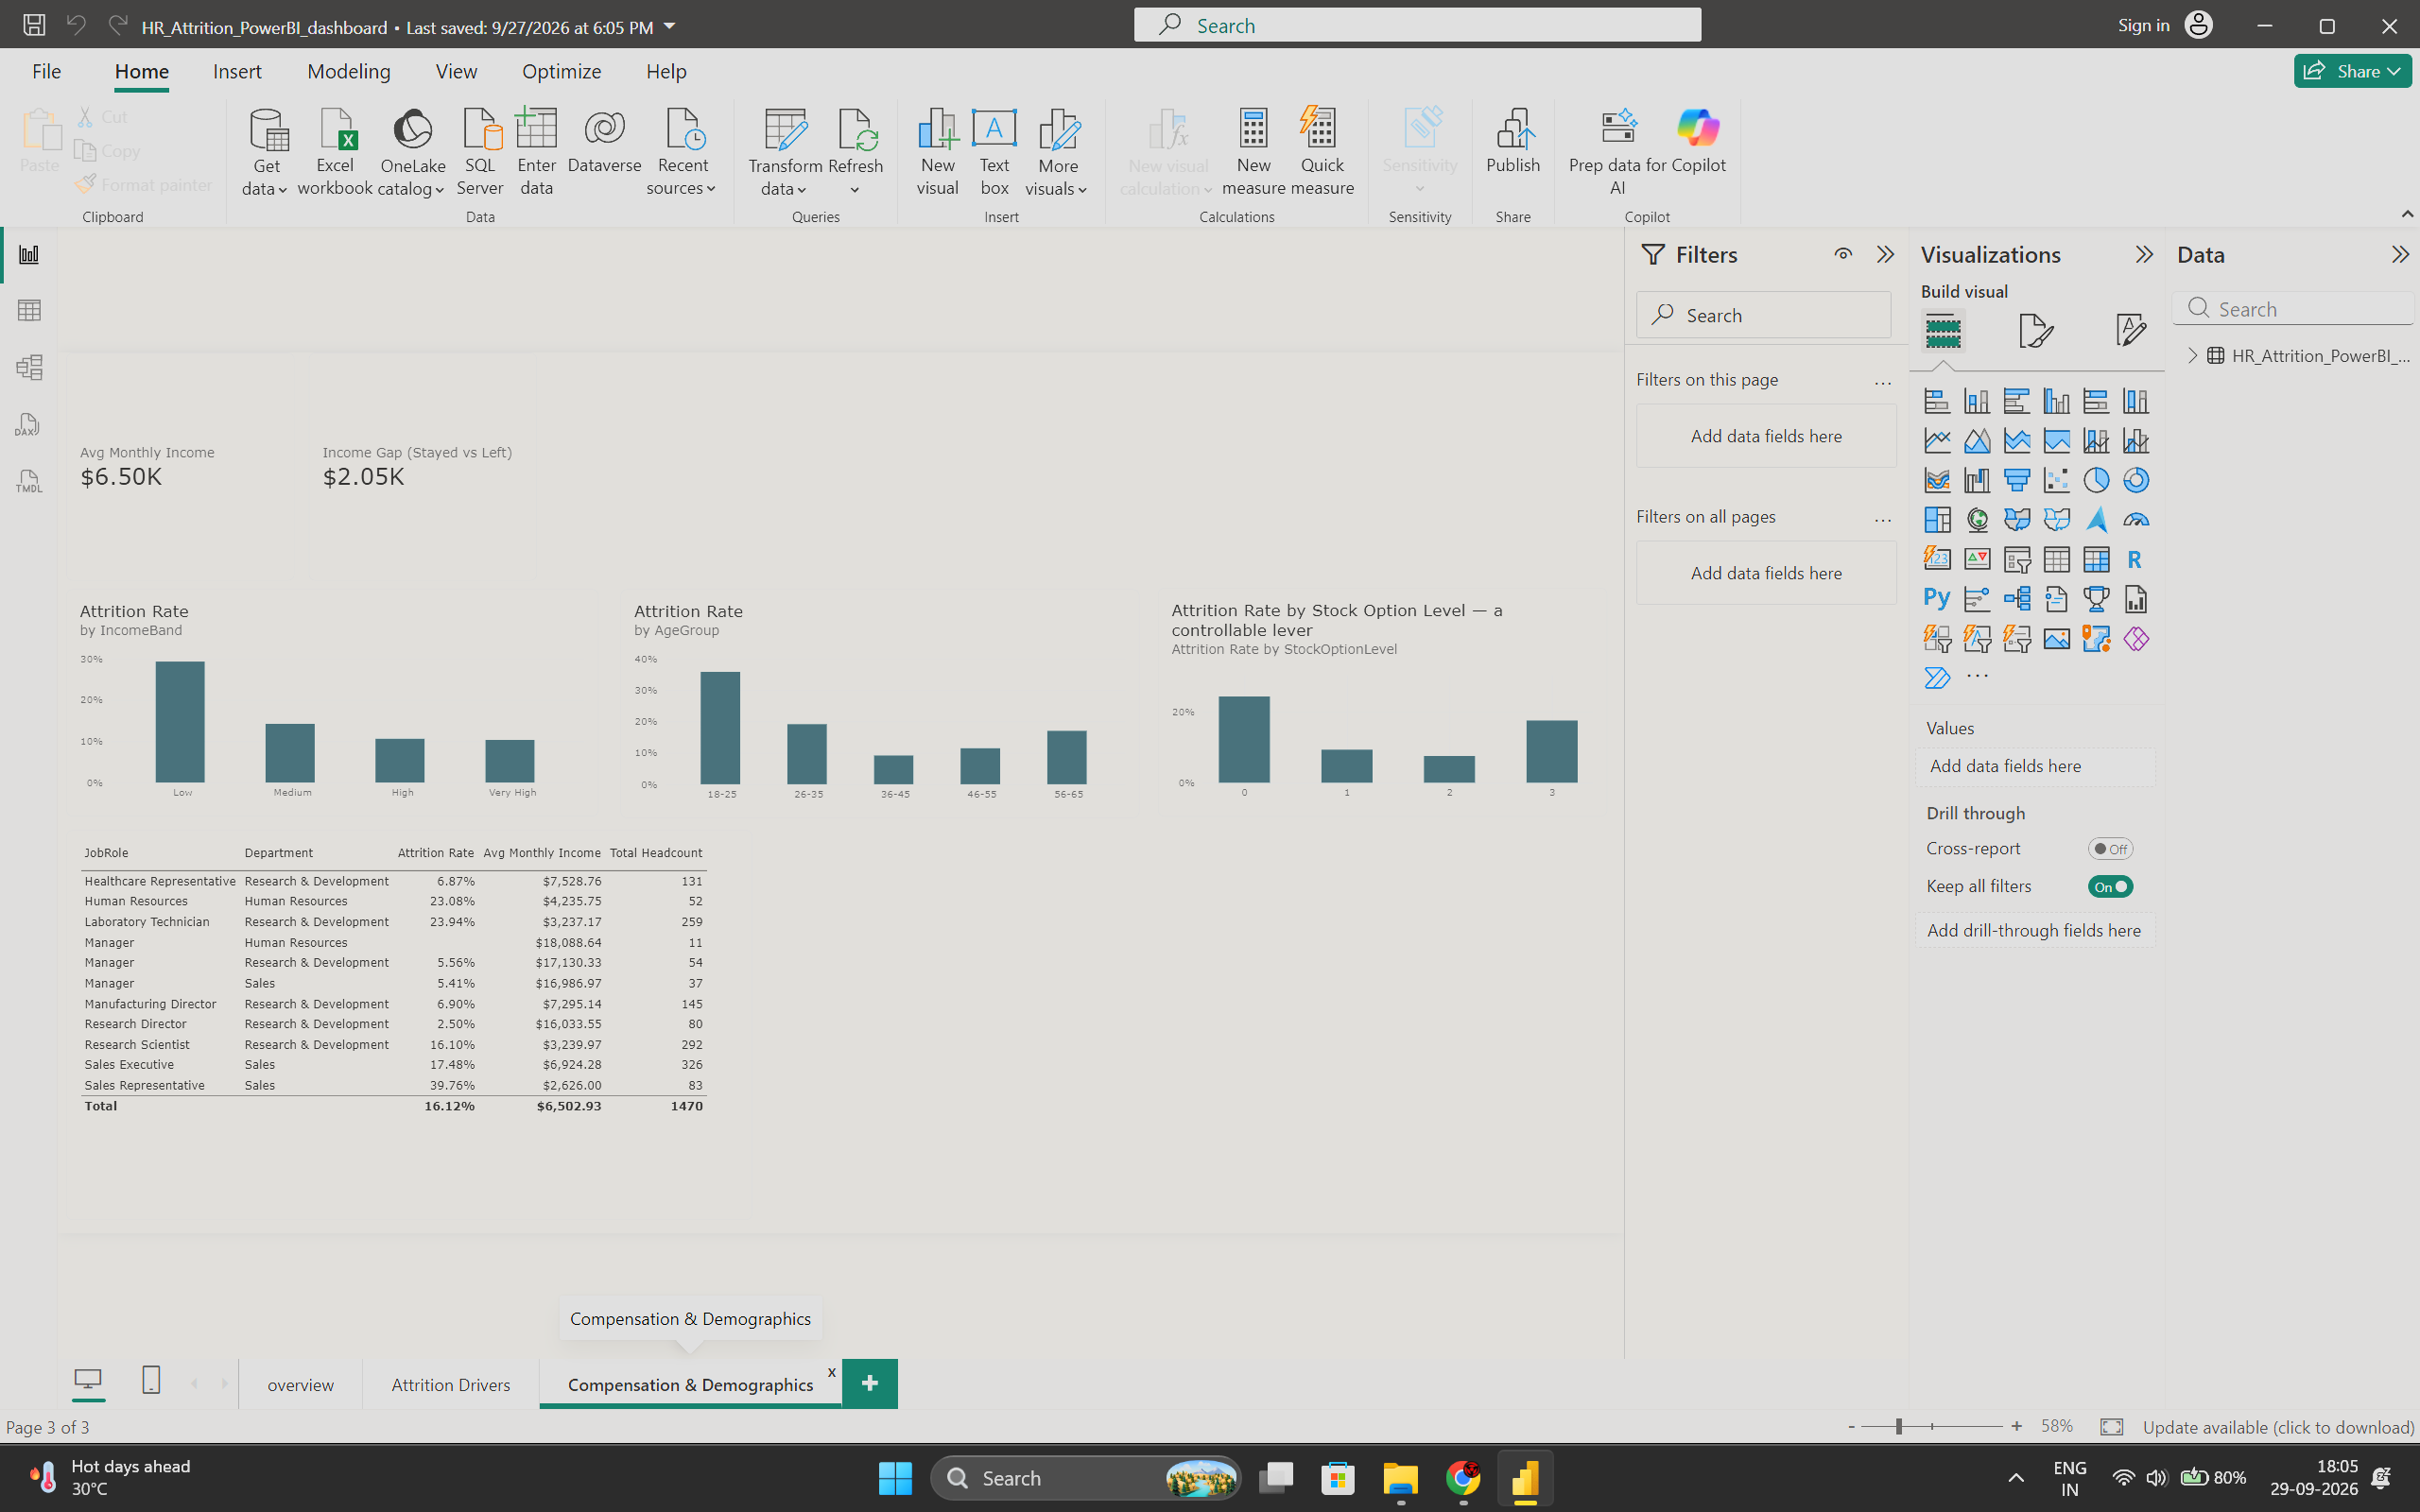

Layout of this report page (visuals, bound fields, positions):
{"tool":"powerbi","page":{"name":"Compensation & Demographics","canvas":[1920,1080],"ordinal":2},"visuals":[{"type":"cardVisual","fields":{"Data":["HR_Attrition_PowerBI_Ready.Avg Monthly Income"]},"box":[10,0,280,280],"z":0},{"type":"cardVisual","fields":{"Data":["HR_Attrition_PowerBI_Ready.Income Gap (Stayed vs Left)"]},"box":[307.5,0,280,280],"z":1},{"type":"clusteredColumnChart","fields":{"Category":["HR_Attrition_PowerBI_Ready.IncomeBand"],"Y":["HR_Attrition_PowerBI_Ready.Attrition Rate"]},"box":[10.4,290.9,652.5,278.4],"z":2},{"type":"clusteredColumnChart","fields":{"Category":["HR_Attrition_PowerBI_Ready.AgeGroup"],"Y":["HR_Attrition_PowerBI_Ready.Attrition Rate"]},"box":[689.9,290.9,635.8,280.5],"z":3},{"type":"clusteredColumnChart","title":"Attrition Rate by Stock Option Level — a controllable lever","fields":{"Category":["HR_Attrition_PowerBI_Ready.StockOptionLevel"],"Y":["HR_Attrition_PowerBI_Ready.Attrition Rate"]},"box":[1348.6,288.8,550.6,280.5],"z":4},{"type":"tableEx","fields":{"Values":["HR_Attrition_PowerBI_Ready.JobRole","HR_Attrition_PowerBI_Ready.Department","HR_Attrition_PowerBI_Ready.Attrition Rate","HR_Attrition_PowerBI_Ready.Avg Monthly Income","HR_Attrition_PowerBI_Ready.Total Headcount"]},"box":[10.4,586,841.6,477.9],"z":5}]}

Visuals, with their boxes on the page's 1920x1080 design canvas (x1, y1, x2, y2). These are canvas units, not pixel positions in the 2420x1512 screenshot, which may show the page scaled, cropped or inside an application window:
cardVisual - HR_Attrition_PowerBI_Ready.Avg Monthly Income: x1=10 y1=0 x2=290 y2=280
cardVisual - HR_Attrition_PowerBI_Ready.Income Gap (Stayed vs Left): x1=308 y1=0 x2=588 y2=280
clusteredColumnChart - HR_Attrition_PowerBI_Ready.IncomeBand x HR_Attrition_PowerBI_Ready.Attrition Rate: x1=10 y1=291 x2=663 y2=569
clusteredColumnChart - HR_Attrition_PowerBI_Ready.AgeGroup x HR_Attrition_PowerBI_Ready.Attrition Rate: x1=690 y1=291 x2=1326 y2=571
"Attrition Rate by Stock Option Level — a controllable lever" clusteredColumnChart: x1=1349 y1=289 x2=1899 y2=569
tableEx - HR_Attrition_PowerBI_Ready.JobRole x HR_Attrition_PowerBI_Ready.Department: x1=10 y1=586 x2=852 y2=1064
